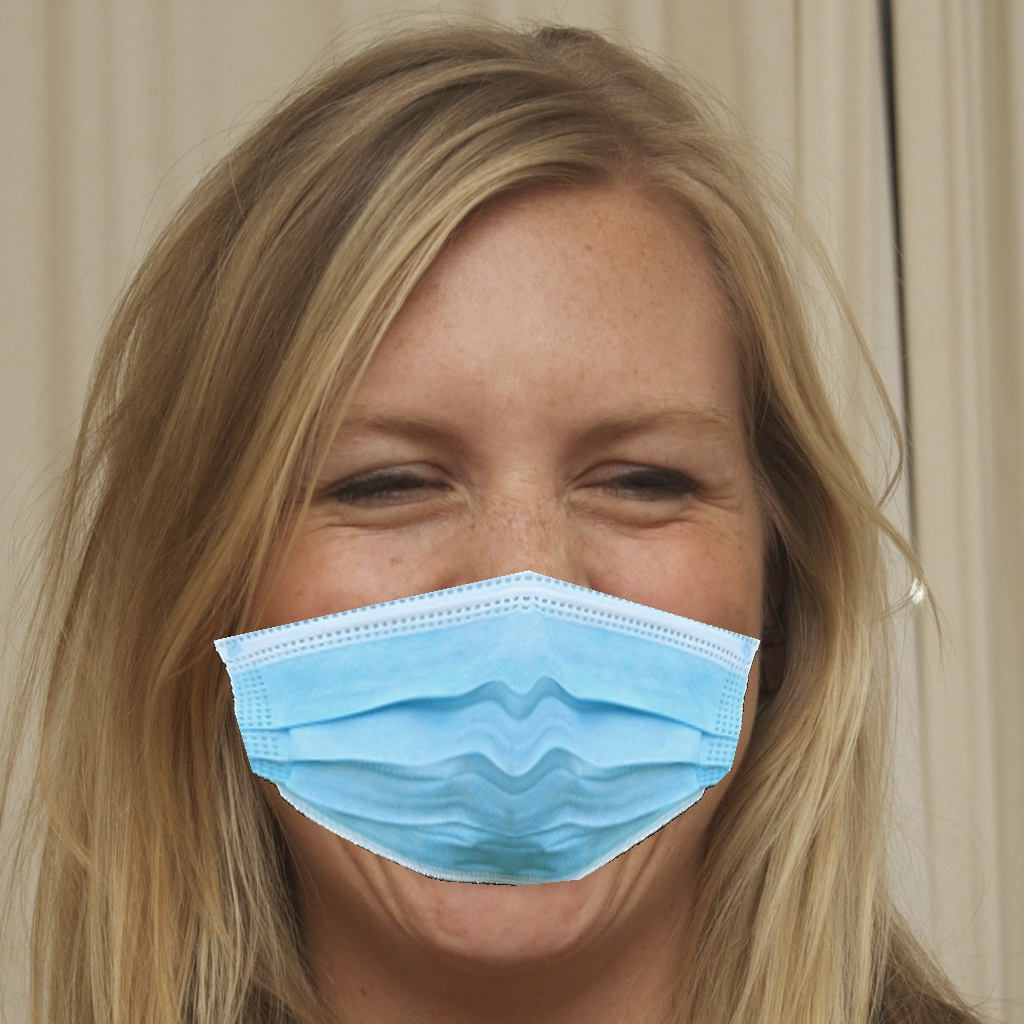mascarilla_mal_puesta: (252, 343, 762, 950)
